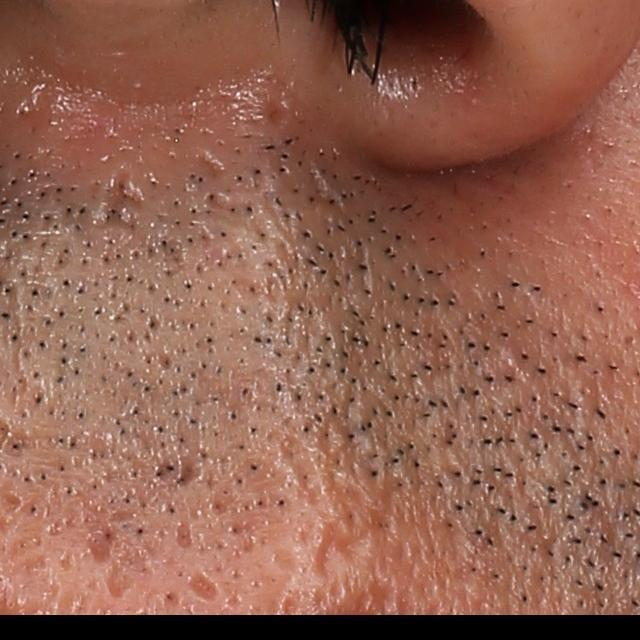atrophic_scar: (318, 521, 373, 572), (106, 175, 149, 223), (81, 526, 115, 555), (106, 563, 135, 597), (188, 569, 214, 602), (191, 152, 220, 181), (174, 516, 194, 551)
